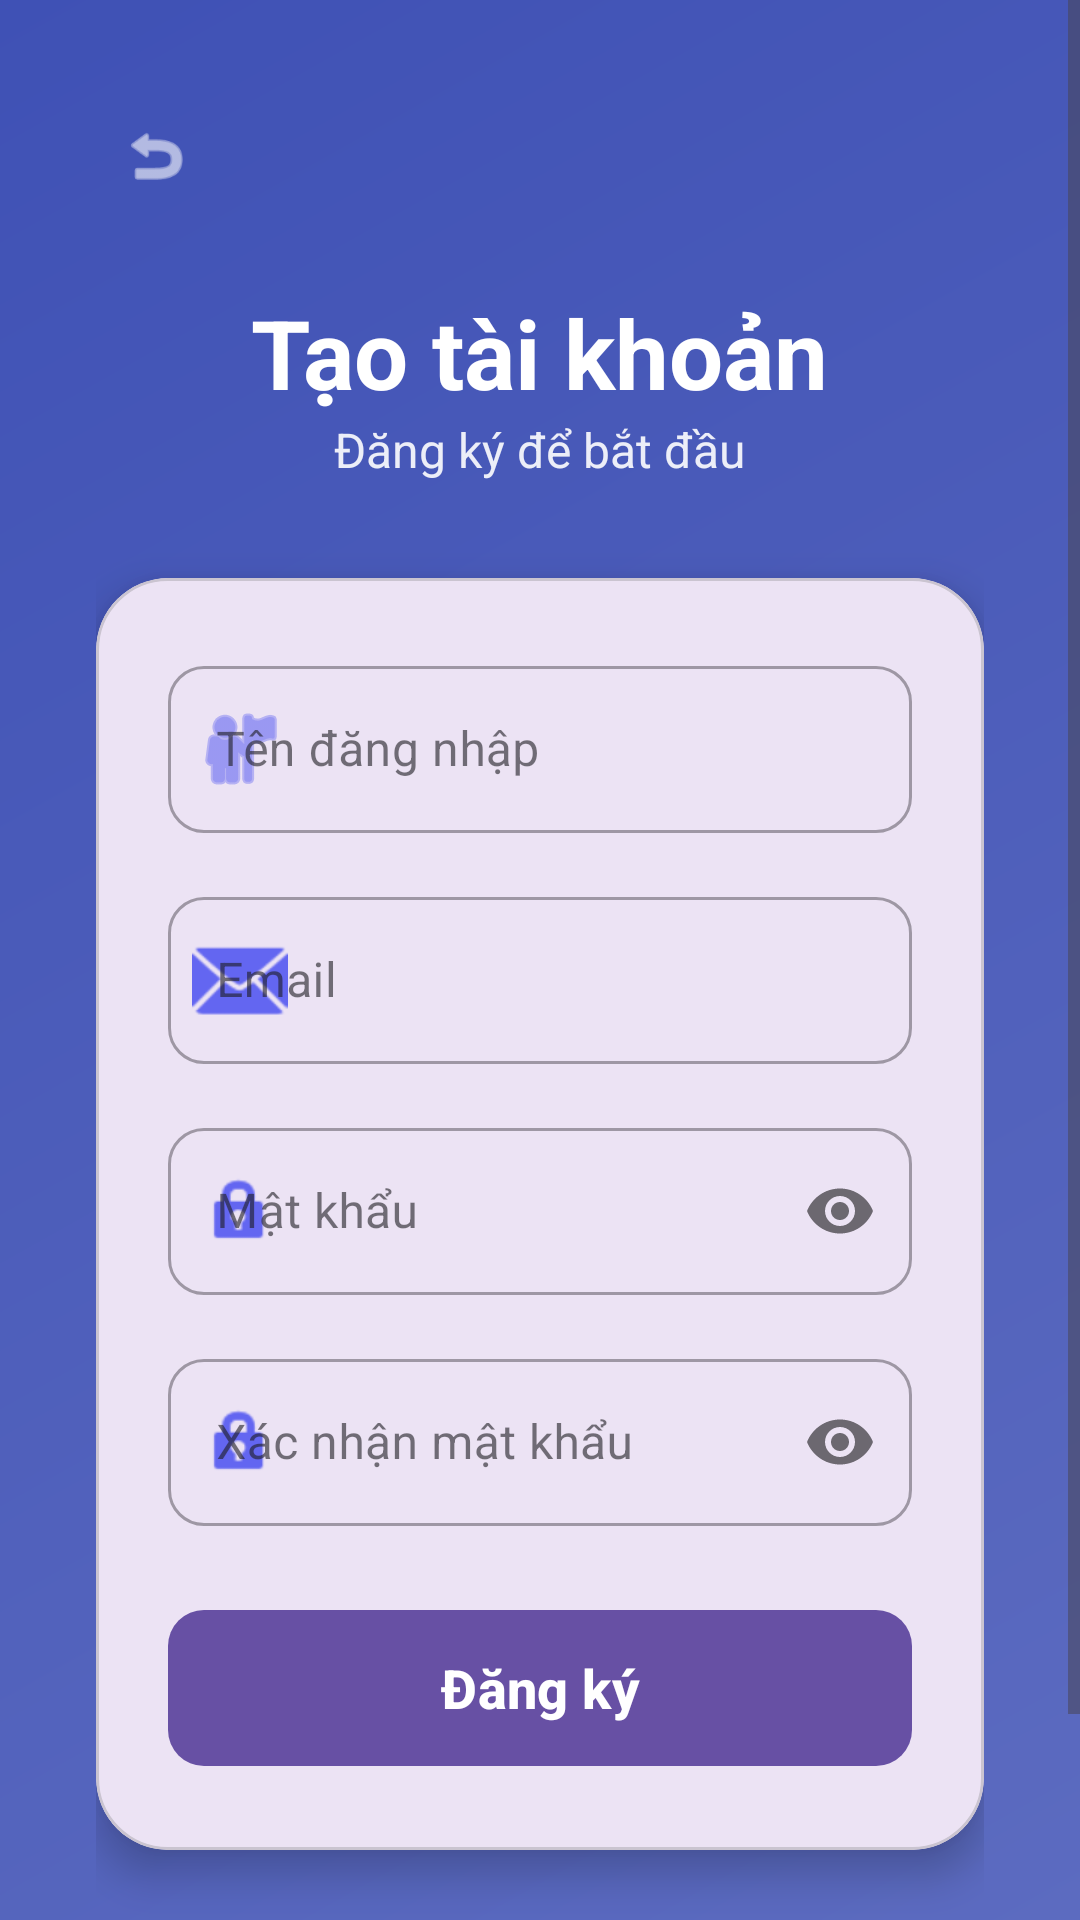

Where icons sit on this 1080px x 1920px app screen, as bbox(x1, y1, x2, y2):
revert: bbox(131, 133, 183, 180)
